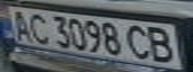0: (66, 16, 87, 51)
3: (48, 12, 72, 48)
8: (100, 20, 124, 56)
9: (81, 18, 106, 53)
A: (3, 8, 36, 42)
B: (142, 24, 181, 64)
C: (121, 22, 157, 61), (24, 10, 54, 45)
